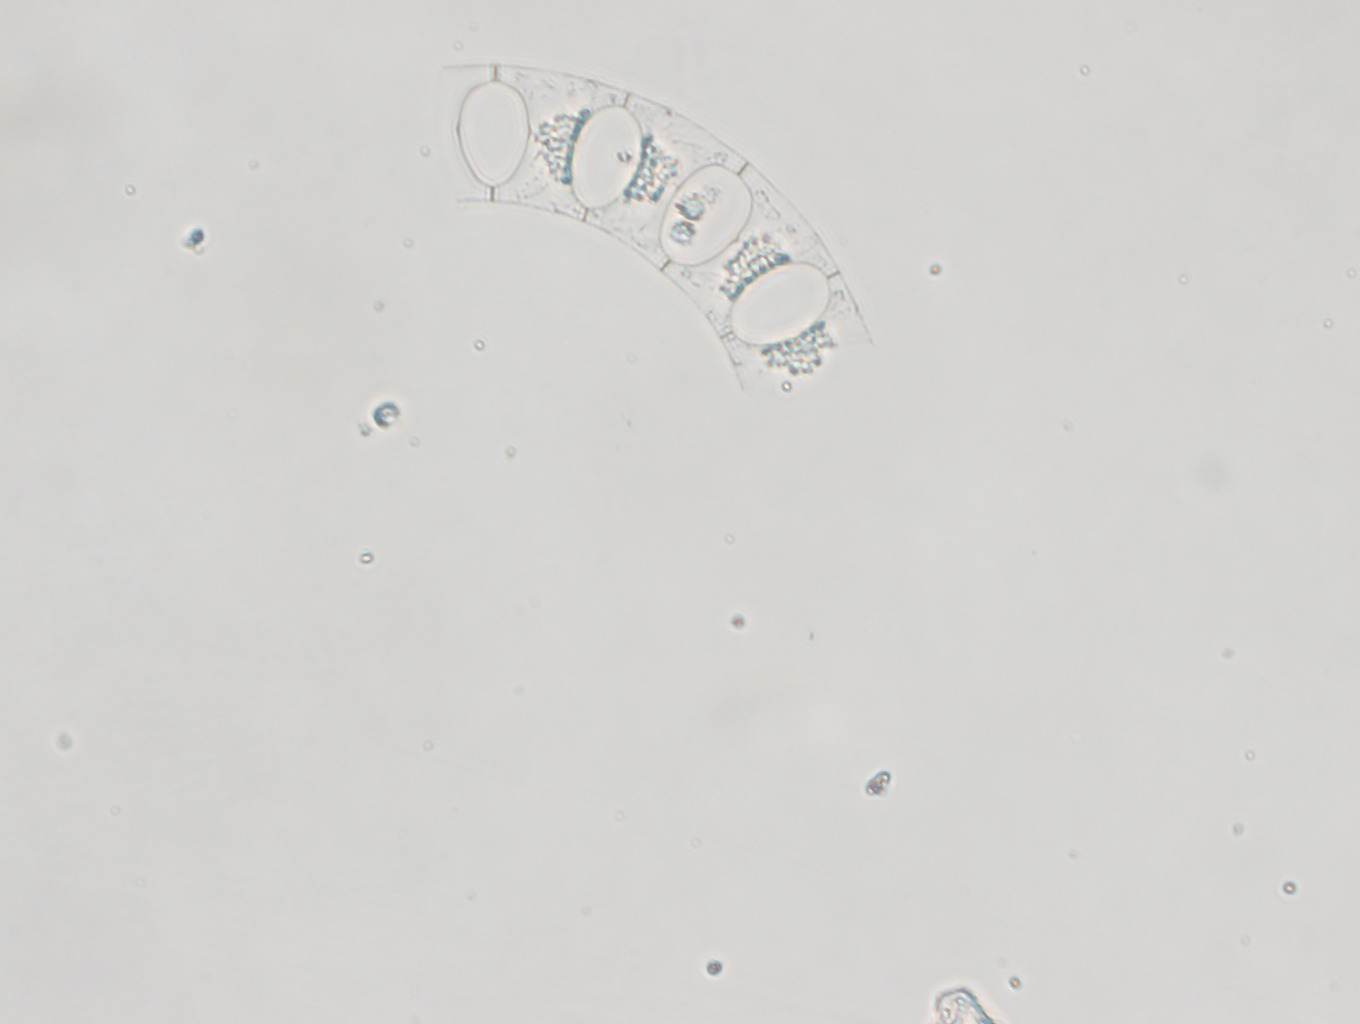eucampia: (434, 65, 876, 407)
